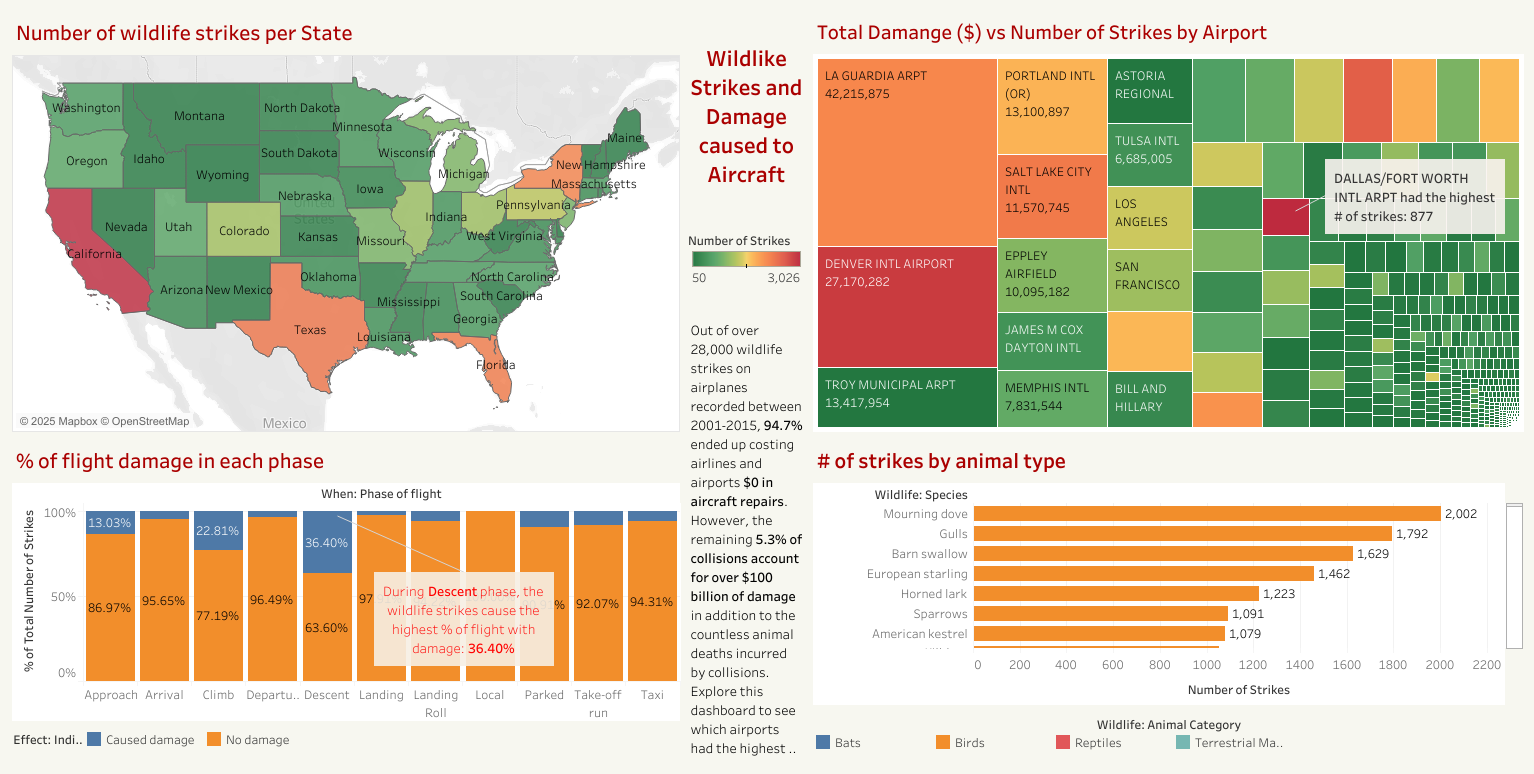

The dashboard page shown, as its layout file describes it:
{"tool":"tableau","page":{"name":"Dashboard 1","canvas":[1000,1000],"units":"permille","ordinal":0},"visuals":[{"type":"text","box":[4.8,9.2,990.4,71.6]},{"type":"worksheet","title":"Sheet 9","mark":"Automatic","rows":["MntTotal"],"cols":["YearBirth"],"box":[4.8,80.8,372,455]},{"type":"blank","box":[376.8,80.8,123.2,108.1]},{"type":"worksheet","title":"Sheet 6","mark":"Automatic","cols":["MaritalStatus"],"box":[500,80.8,495.2,455]},{"type":"legend","title":"Sheet 6","param":"[federated.03zzj3400g4hvz1aglosj1qi98rm].[:Measure Names]","box":[376.8,189,123.2,346.8]},{"type":"worksheet","title":"Sheet 2","mark":"Automatic","cols":["MaritalStatus"],"box":[4.8,535.8,413.5,455]},{"type":"blank","box":[418.3,535.8,104,84.6]},{"type":"worksheet","title":"Sheet 10","mark":"Automatic","cols":["MaritalStatus"],"box":[522.2,535.8,472.9,455]},{"type":"legend","title":"Sheet 2","param":"[federated.03zzj3400g4hvz1aglosj1qi98rm].[none:MaritalStatus:nk]","box":[418.3,620.4,104,370.4]}]}

Visuals, with their boxes on the dashboard's canvas, which has no fixed pixel size, in thousandths of its width and height (x1, y1, x2, y2). These are canvas units, not pixel positions in the 1534x774 screenshot, which may show the page scaled, cropped or inside an application window:
text: l=5, t=9, r=995, b=81
"Sheet 9" worksheet: l=5, t=81, r=377, b=536
blank: l=377, t=81, r=500, b=189
"Sheet 6" worksheet: l=500, t=81, r=995, b=536
"Sheet 6" legend: l=377, t=189, r=500, b=536
"Sheet 2" worksheet: l=5, t=536, r=418, b=991
blank: l=418, t=536, r=522, b=620
"Sheet 10" worksheet: l=522, t=536, r=995, b=991
"Sheet 2" legend: l=418, t=620, r=522, b=991
